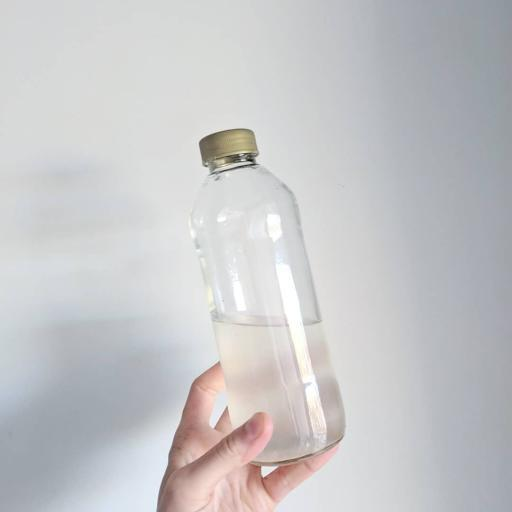bottle: (194, 120, 359, 469)
